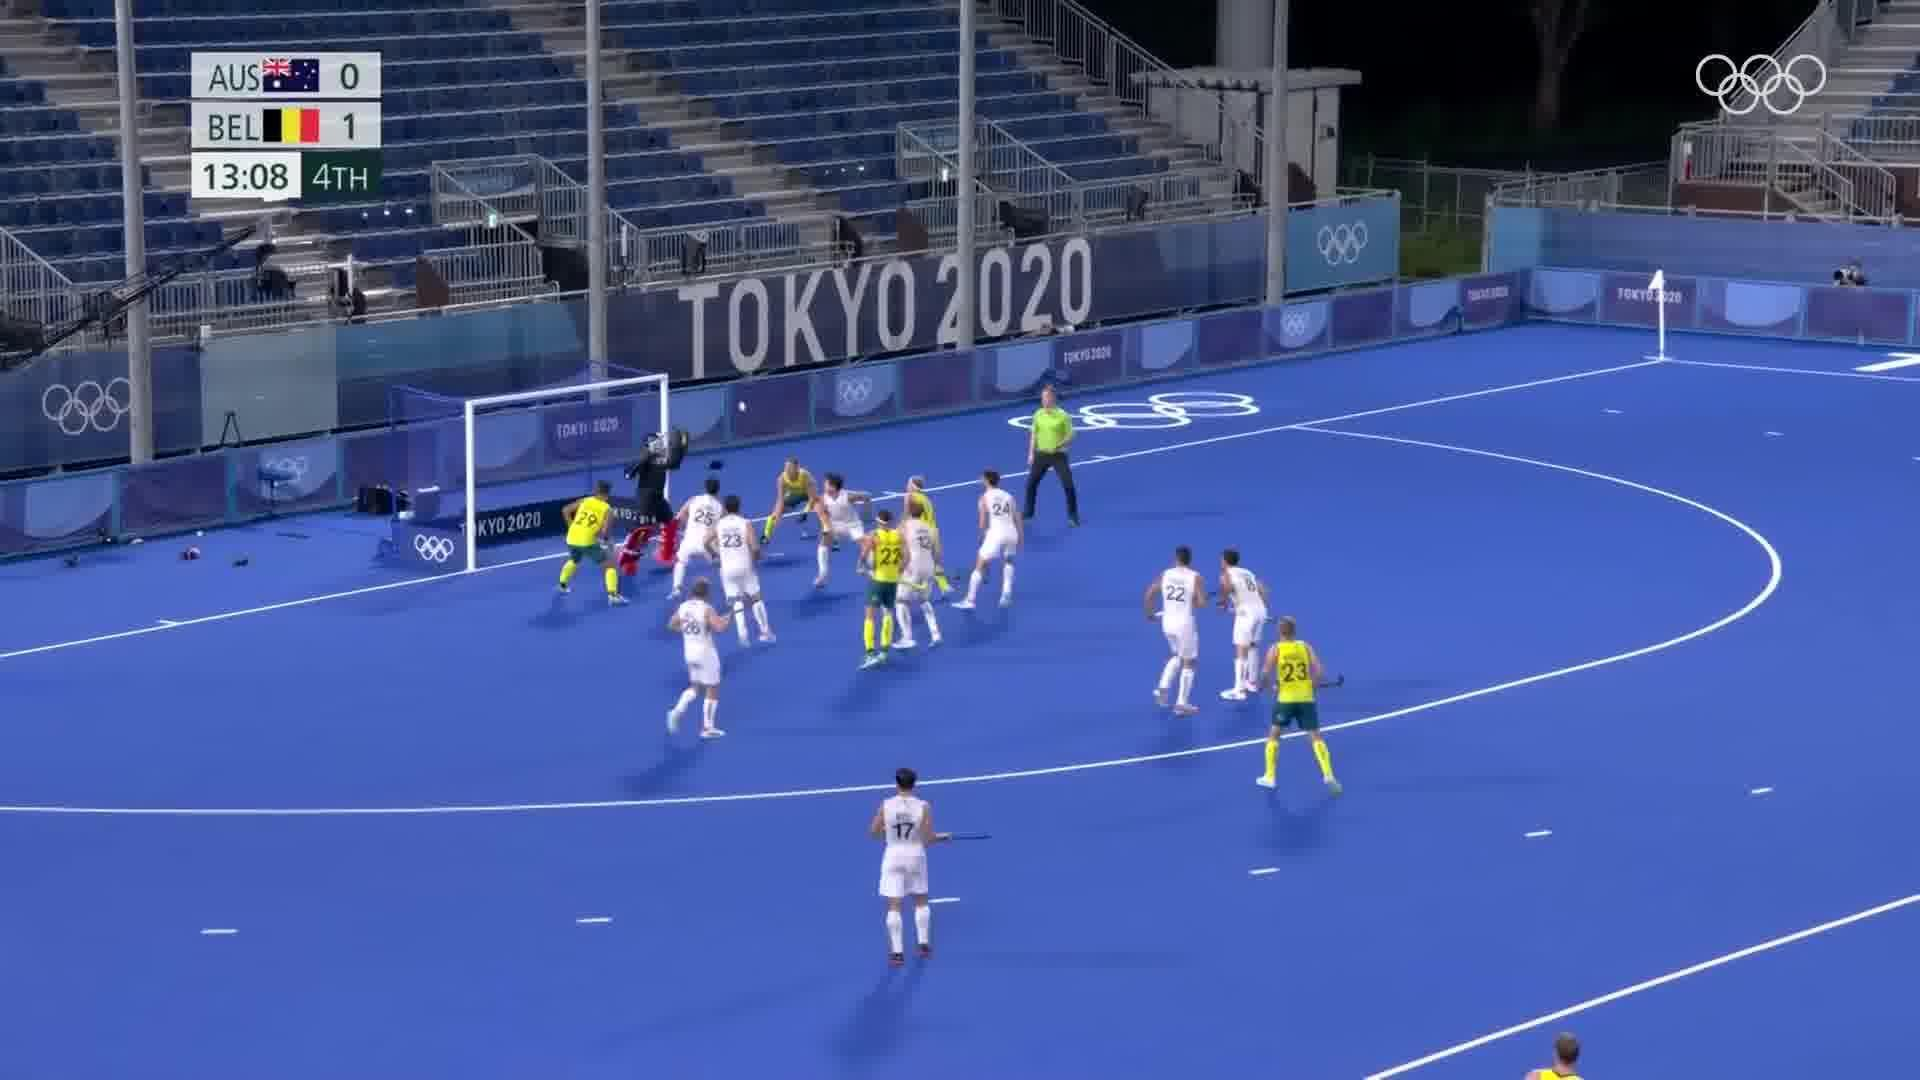ball: (731, 397, 751, 414)
